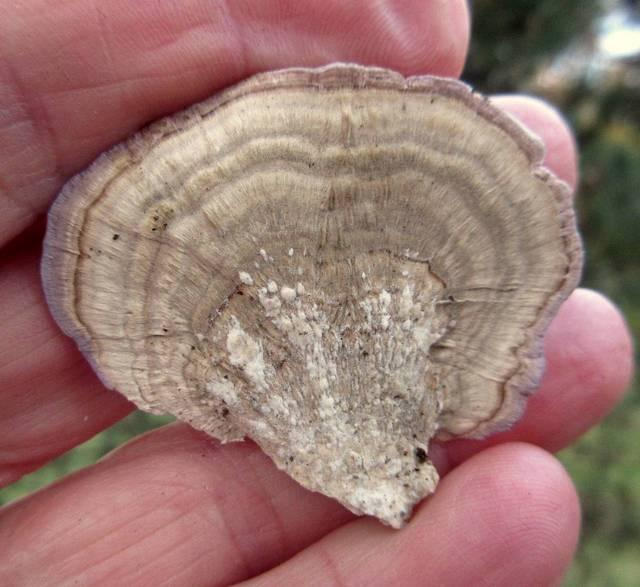poisonous_mushroom: (38, 60, 585, 530)
